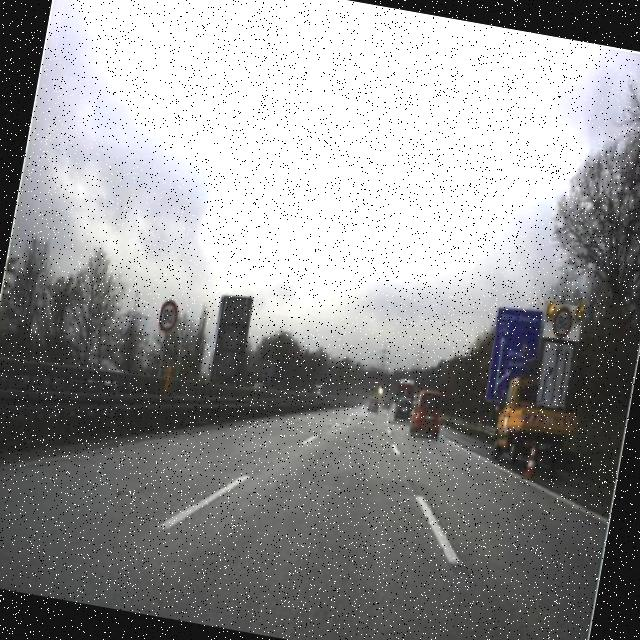Ograniczenie predkosci do 80: (154, 296, 184, 334), (548, 304, 576, 344)
